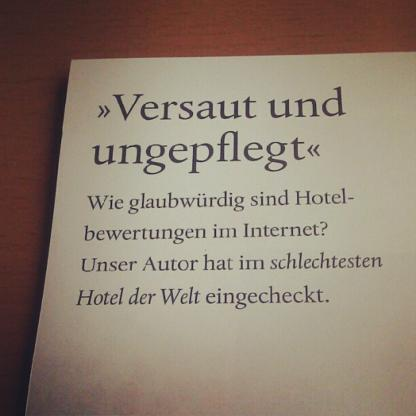book: (23, 52, 415, 415)
